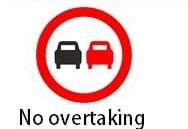Traffic signal: (33, 6, 134, 104)
